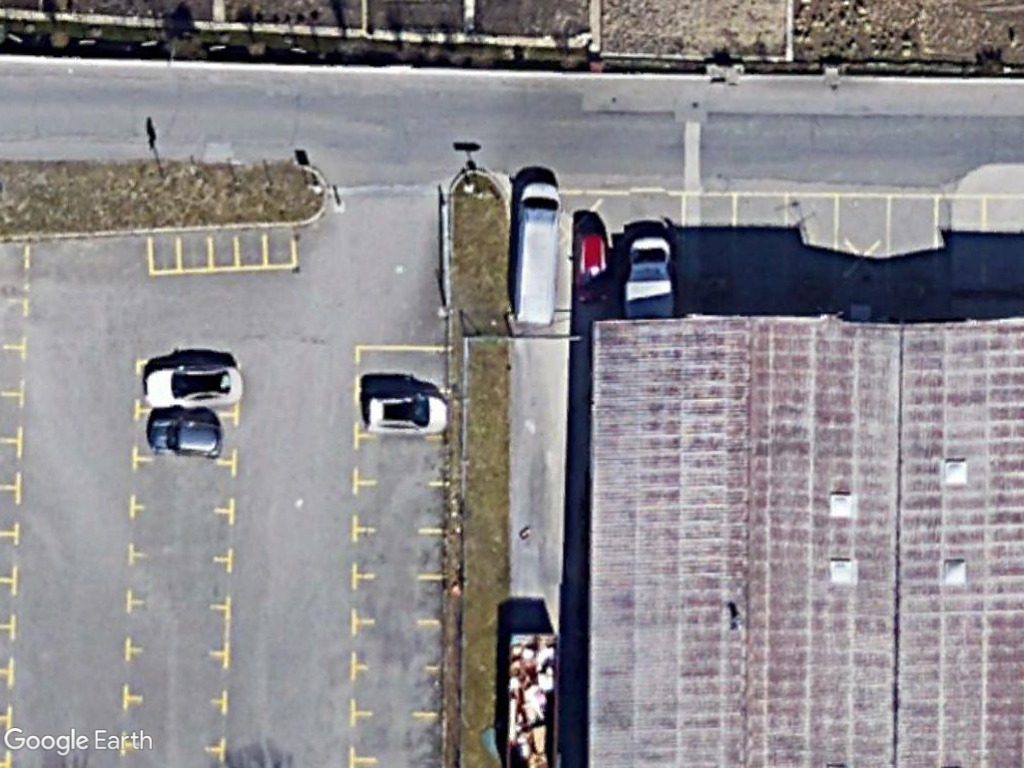car: (141, 362, 244, 411), (145, 415, 226, 461), (365, 394, 449, 436)
van: (510, 180, 562, 328)
